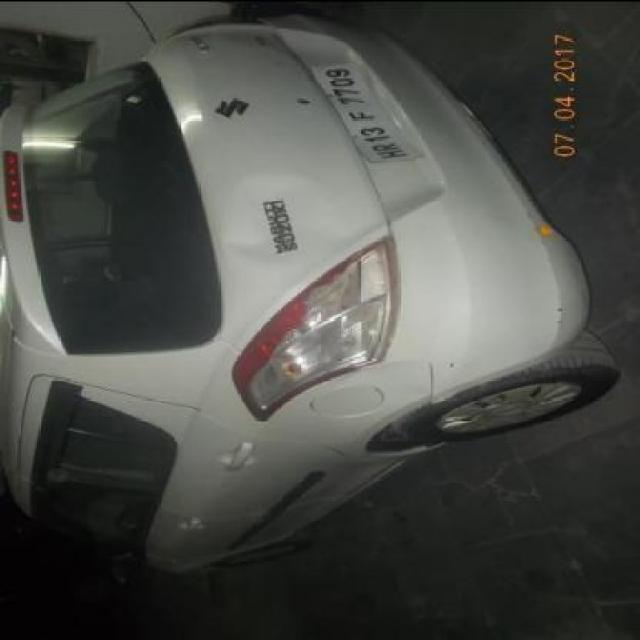damage: (221, 166, 328, 270), (548, 283, 571, 327), (440, 357, 469, 371)
